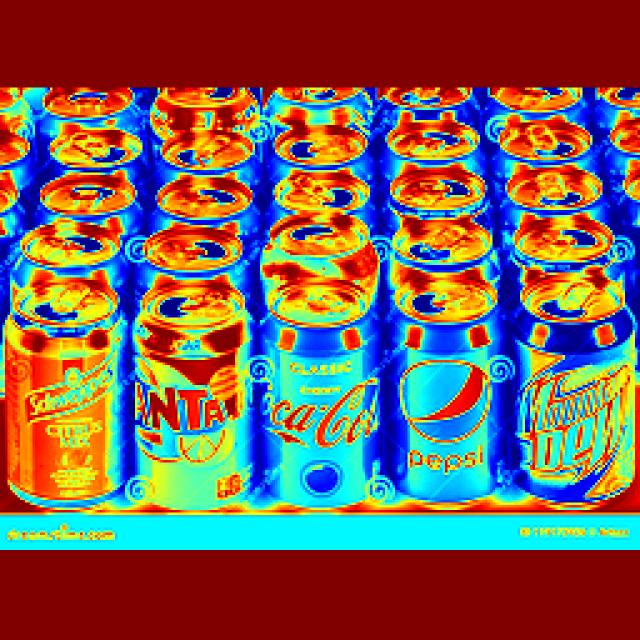Aluminium Food Cans: (247, 292, 377, 506), (130, 292, 243, 511), (514, 288, 626, 501), (18, 270, 126, 486), (394, 298, 485, 502), (164, 125, 268, 184), (266, 216, 367, 275), (369, 217, 480, 270), (158, 177, 271, 227), (135, 228, 243, 275), (384, 172, 487, 215), (20, 218, 102, 271), (511, 228, 614, 268), (384, 120, 487, 160), (506, 168, 598, 212), (44, 174, 134, 217), (493, 123, 592, 161), (291, 166, 372, 212), (54, 125, 144, 162), (280, 130, 350, 165)
